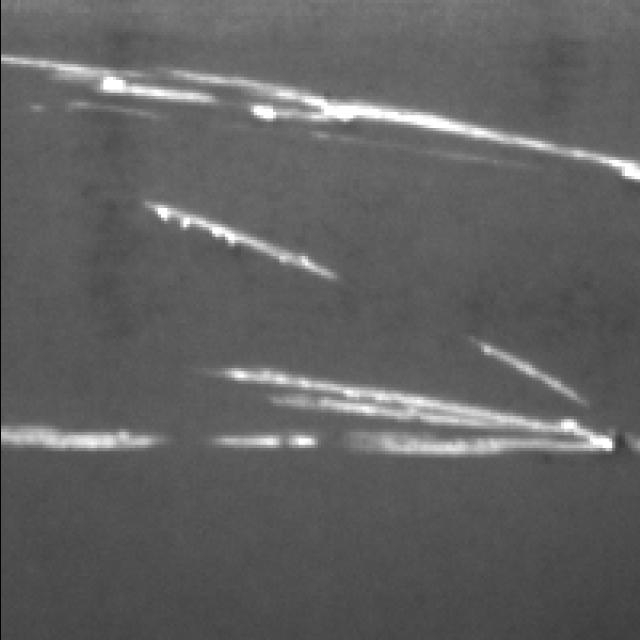scratches: (3, 59, 640, 173), (260, 377, 534, 434), (144, 205, 324, 275), (210, 437, 590, 456), (0, 419, 170, 451)
